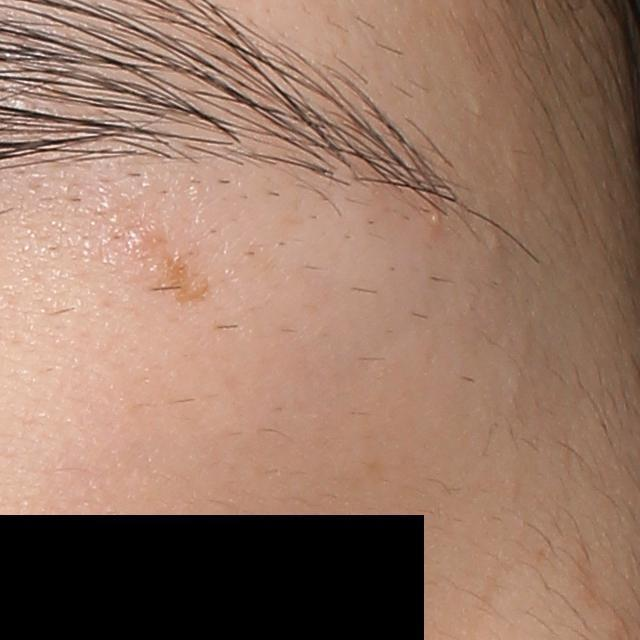melasma: (165, 249, 212, 309)
